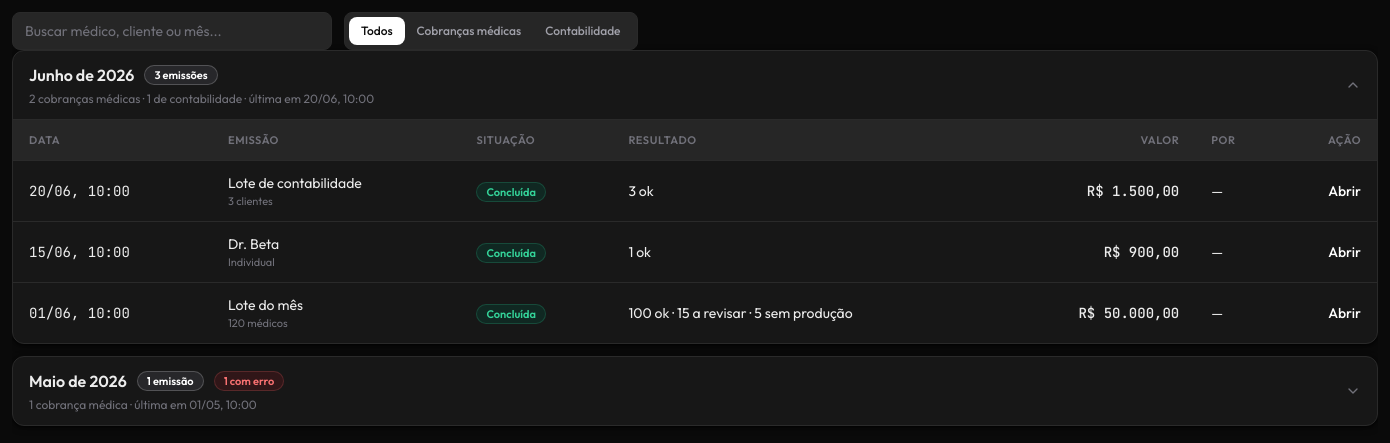
it: HistoricoExecucoes › busca por nome de médico deixa só a emissão individual dele
expect the button "Maio de 2026" is shown: met, box [13,357,1377,425]
Type "beta" into the search field labelled "Buscar médico, cliente ou mês" at (172, 31), box [12,12,332,50]
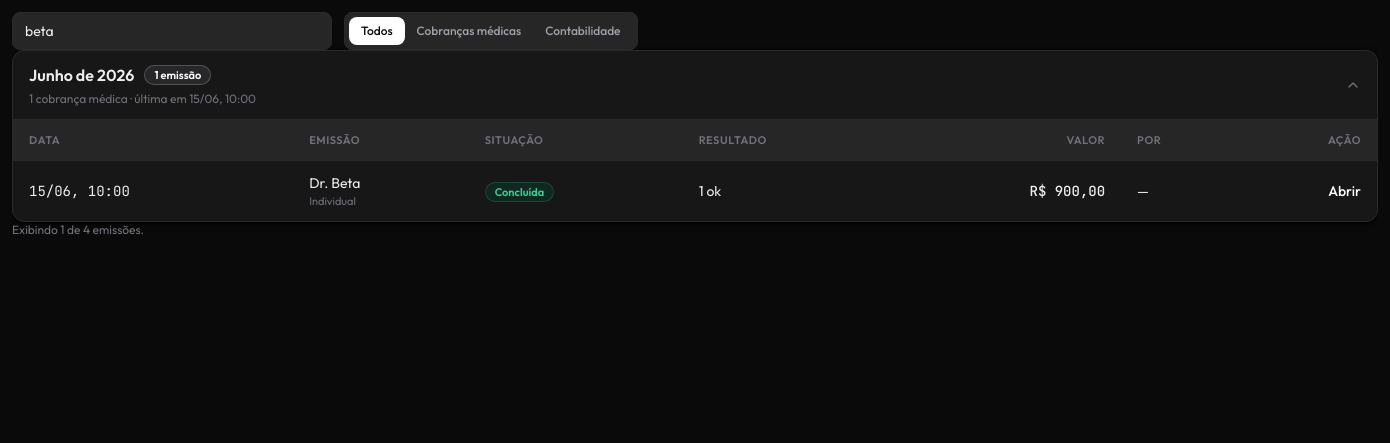
expect the text "Dr. Beta" is shown: met, box [309,174,360,192]
expect the text "Lote do mês" is gone: met
expect the button "Maio de 2026" is gone: met
